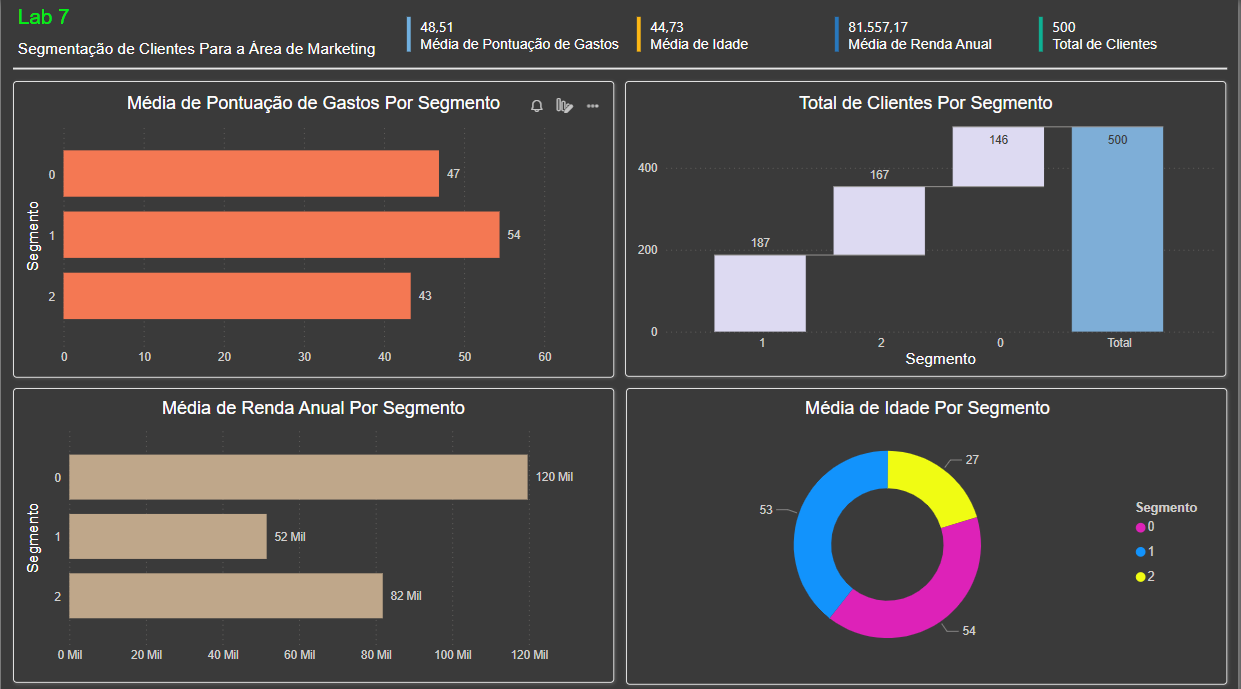

The page's visual inventory and layout, read from the dashboard file:
{"tool":"powerbi","page":{"name":"Lab7-DSA","canvas":[1280,720],"ordinal":0},"visuals":[{"type":"shape","box":[12,58,1256,26],"z":0},{"type":"shape","box":[12.3,83.5,621.5,306.7],"z":1000},{"type":"shape","box":[646,84,622,306],"z":2000},{"type":"shape","box":[12.3,401.1,621.5,305.3],"z":3000},{"type":"shape","box":[646.2,401.1,621.5,306.7],"z":4000},{"type":"clusteredBarChart","title":"Média de Renda Anual Por Segmento","fields":{"Category":["Table.cluster"],"Y":["Avg(Table.renda_anual)"]},"box":[20.5,412.1,605.1,282],"z":5000},{"type":"donutChart","title":"Média de Idade Por Segmento","fields":{"Category":["Table.cluster"],"Y":["Clientes.Média de Idade"]},"box":[655.7,412.1,605.1,282],"z":6000},{"type":"clusteredBarChart","title":"Média de Pontuação de Gastos Por Segmento","fields":{"Category":["Table.cluster"],"Y":["Avg(Table.pontuacao_gastos)"]},"box":[20.5,95.8,605.1,288.9],"z":7000},{"type":"multiRowCard","fields":{"Values":["CountNonNull(Table.id)"]},"box":[1069,12,199,50],"z":8000},{"type":"multiRowCard","fields":{"Values":["Avg(Table.renda_anual)"]},"box":[858,12,199,50],"z":9000},{"type":"multiRowCard","fields":{"Values":["Avg(Table.idade)"]},"box":[653,12.3,198.5,49.3],"z":10000},{"type":"multiRowCard","fields":{"Values":["Avg(Table.pontuacao_gastos)"]},"box":[414.8,12.3,231.4,49.3],"z":11000},{"type":"textbox","box":[12.3,37,402.5,28.7],"z":12000},{"type":"textbox","box":[12.2,1.2,345.9,35.4],"z":13000},{"type":"waterfallChart","title":"Total de Clientes Por Segmento","fields":{"Category":["Clientes.cluster"],"Y":["CountNonNull(Clientes.id)"]},"box":[653,95.8,607.8,288.9],"z":14000}]}

Visuals, with their boxes in screenshot pixels (x1, y1, x2, y2), scaled from the page's 1280x720 canvas onto the 1241x689 screenshot:
shape: select_region(12, 56, 1229, 80)
shape: select_region(12, 80, 614, 373)
shape: select_region(626, 80, 1229, 373)
shape: select_region(12, 384, 614, 676)
shape: select_region(627, 384, 1229, 677)
"Média de Renda Anual Por Segmento" clusteredBarChart: select_region(20, 394, 607, 664)
"Média de Idade Por Segmento" donutChart: select_region(636, 394, 1222, 664)
"Média de Pontuação de Gastos Por Segmento" clusteredBarChart: select_region(20, 92, 607, 368)
multiRowCard - CountNonNull(Table.id): select_region(1036, 11, 1229, 59)
multiRowCard - Avg(Table.renda_anual): select_region(832, 11, 1025, 59)
multiRowCard - Avg(Table.idade): select_region(633, 12, 826, 59)
multiRowCard - Avg(Table.pontuacao_gastos): select_region(402, 12, 627, 59)
textbox: select_region(12, 35, 402, 63)
textbox: select_region(12, 1, 347, 35)
"Total de Clientes Por Segmento" waterfallChart: select_region(633, 92, 1222, 368)
